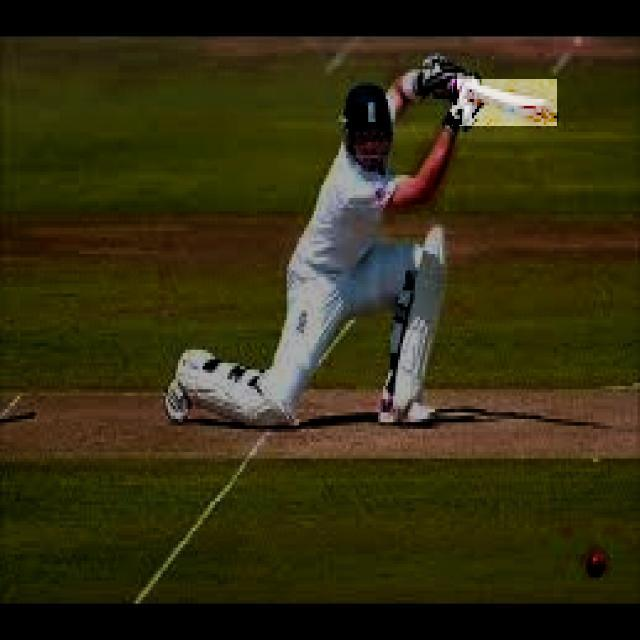bat: (455, 74, 560, 127)
